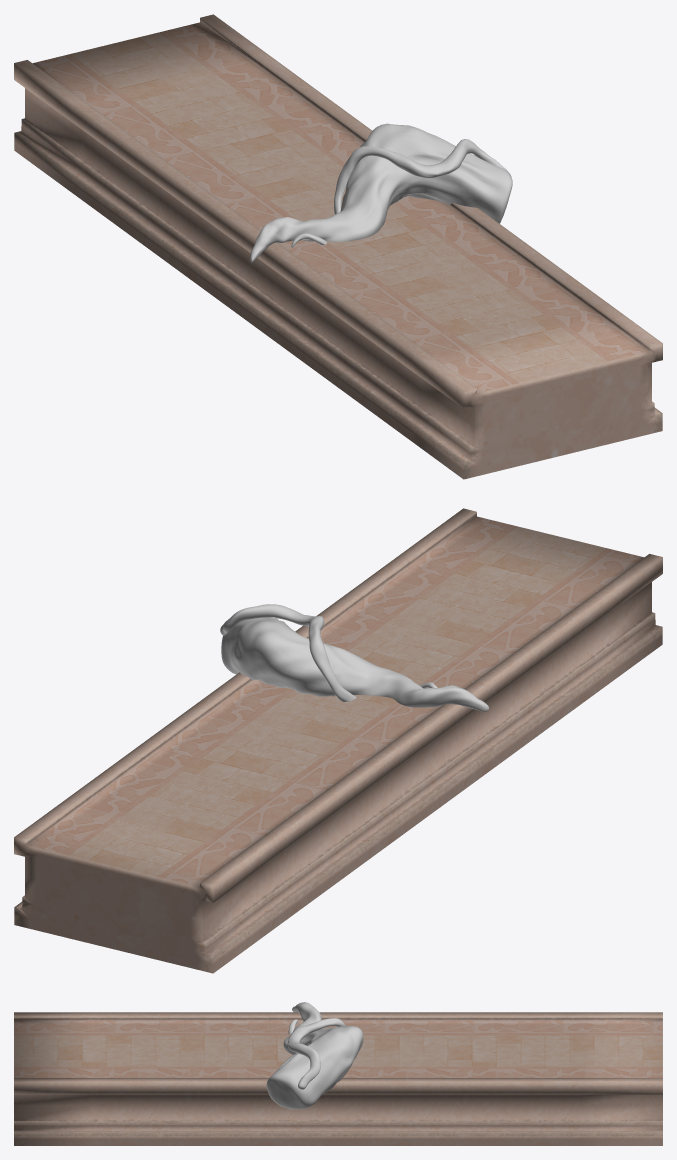
File: 基础路段加树根.fbx
3 renders of one model, top to bottom at view 1: azimuth 30°, elevation 25°; view 2: azimuth 150°, elevation 25°; view 3: azimuth 270°, elevation 25°, orthographic. The views are drawn at different scales.
Visible parts, largest first — view 1: 平面.022, 树根低; view 2: 平面.022, 树根低; view 3: 平面.022, 树根低.
Boxes of the visible parts, left/top/right/bottom form: 平面.022: left=14, top=14, right=662, bottom=479; 树根低: left=250, top=123, right=512, bottom=262; 平面.022: left=14, top=508, right=662, bottom=973; 树根低: left=220, top=604, right=489, bottom=711; 平面.022: left=14, top=1012, right=662, bottom=1145; 树根低: left=266, top=1002, right=363, bottom=1109.
Size of the model in its own units: 408 by 214 by 1210.
